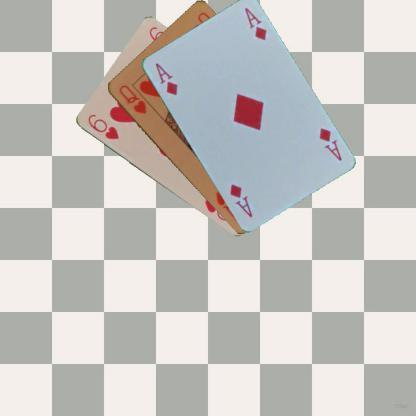6h: (85, 111, 121, 141)
Ad: (316, 124, 344, 162), (152, 60, 178, 96)
Qh: (115, 82, 148, 116)
